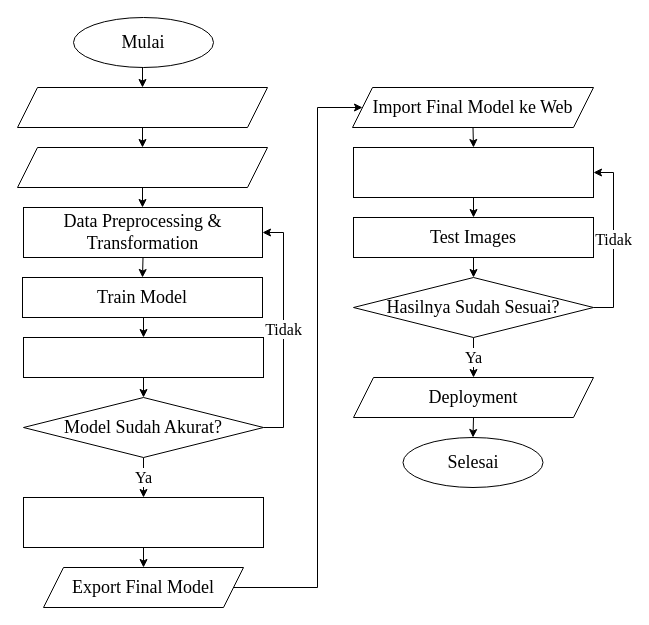
Some shapes in this 649 by 625 pixel diagram are drawn without their labels. The shapes that lost their labels are listed below. From the top down, each one's centre as x and y in pixels, then its label:
At point (142, 107): "Install & Import Library".
At point (142, 167): "Data Collecting & Cleaning".
At point (473, 172): "Membuat Image Predict TensorFlow.js".
At point (143, 357): "Test Model".
At point (143, 522): "Convert Model ke JSON dengan TensorFlow.js".
